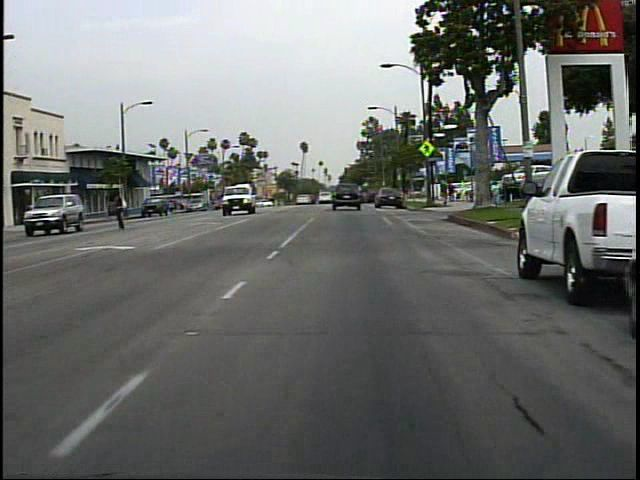person: (112, 187, 136, 235), (489, 180, 503, 211)
